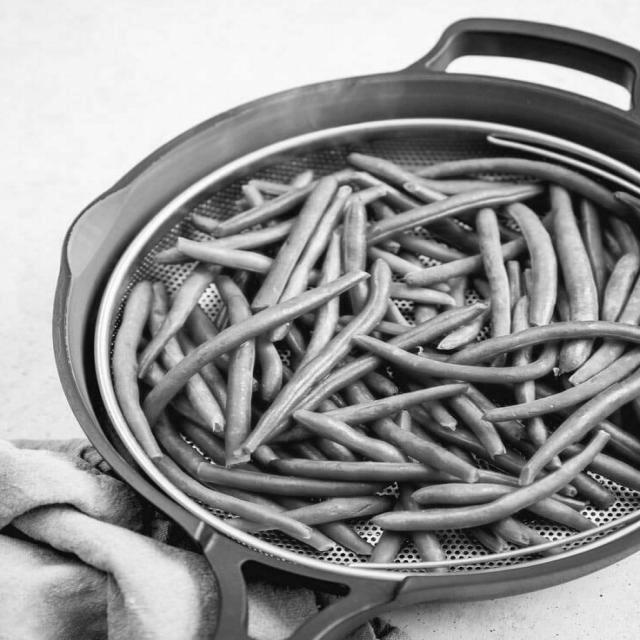Beans: (112, 142, 639, 572)
